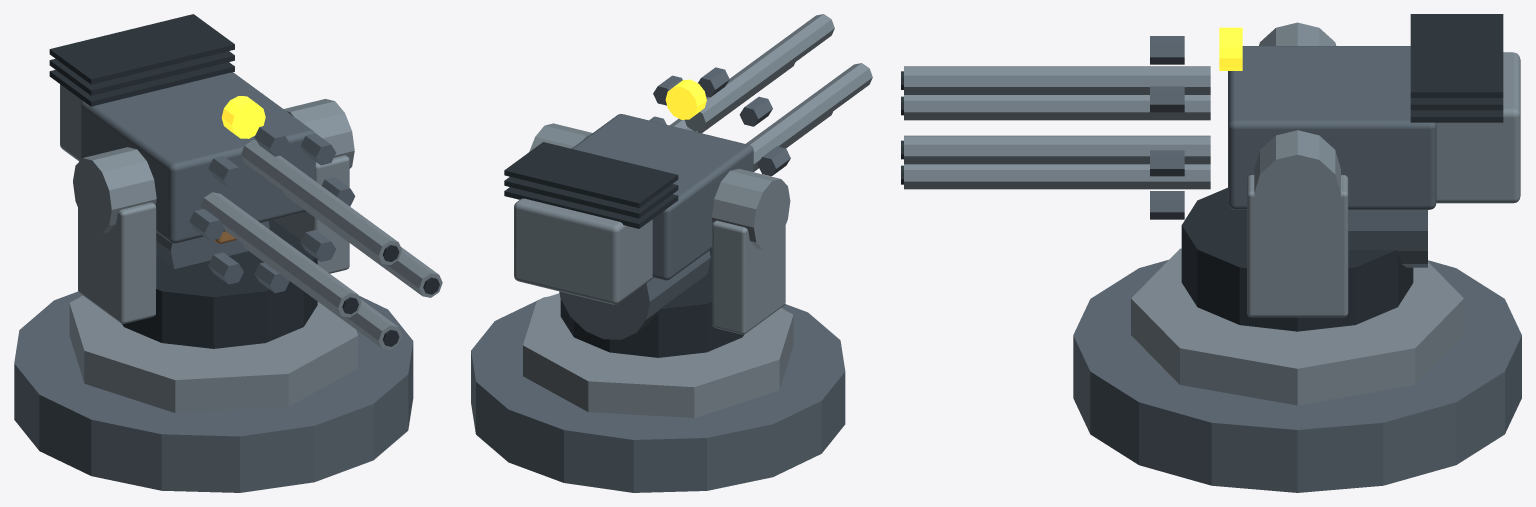
The model's file is rotor_t1_d0.glb.
3 views of the same model, side by side, from view 1: azimuth 30°, elevation 25°; view 2: azimuth 150°, elevation 25°; view 3: azimuth 270°, elevation 25° (orthographic). The views are drawn at different scales.
Parts seen in each view (by area): view 1: BASE_ARMOR_GEOMETRY, RECOIL_ARMOR_GEOMETRY, YAW_ARMOR_GEOMETRY, ROTOR_ARMOR_GEOMETRY, RECOIL_SIGNAL_GEOMETRY; view 2: BASE_ARMOR_GEOMETRY, RECOIL_ARMOR_GEOMETRY, YAW_ARMOR_GEOMETRY, ROTOR_ARMOR_GEOMETRY, RECOIL_SIGNAL_GEOMETRY; view 3: BASE_ARMOR_GEOMETRY, RECOIL_ARMOR_GEOMETRY, ROTOR_ARMOR_GEOMETRY, YAW_ARMOR_GEOMETRY, RECOIL_SIGNAL_GEOMETRY.
Part boxes in pixels (box(x1,y1,x2,y2)): BASE_ARMOR_GEOMETRY: box(14, 291, 413, 492); RECOIL_ARMOR_GEOMETRY: box(49, 14, 354, 268); YAW_ARMOR_GEOMETRY: box(78, 155, 349, 348); ROTOR_ARMOR_GEOMETRY: box(189, 124, 442, 349); RECOIL_SIGNAL_GEOMETRY: box(221, 96, 265, 138); BASE_ARMOR_GEOMETRY: box(471, 293, 845, 492); RECOIL_ARMOR_GEOMETRY: box(504, 114, 790, 339); YAW_ARMOR_GEOMETRY: box(560, 220, 785, 357); ROTOR_ARMOR_GEOMETRY: box(649, 14, 872, 176); RECOIL_SIGNAL_GEOMETRY: box(665, 79, 706, 119); BASE_ARMOR_GEOMETRY: box(1073, 248, 1521, 492); RECOIL_ARMOR_GEOMETRY: box(1228, 14, 1520, 267); ROTOR_ARMOR_GEOMETRY: box(901, 36, 1210, 219); YAW_ARMOR_GEOMETRY: box(1181, 175, 1413, 331); RECOIL_SIGNAL_GEOMETRY: box(1219, 27, 1242, 70).
Size of the model in its own units: 1.55 by 1.4 by 2.15.
